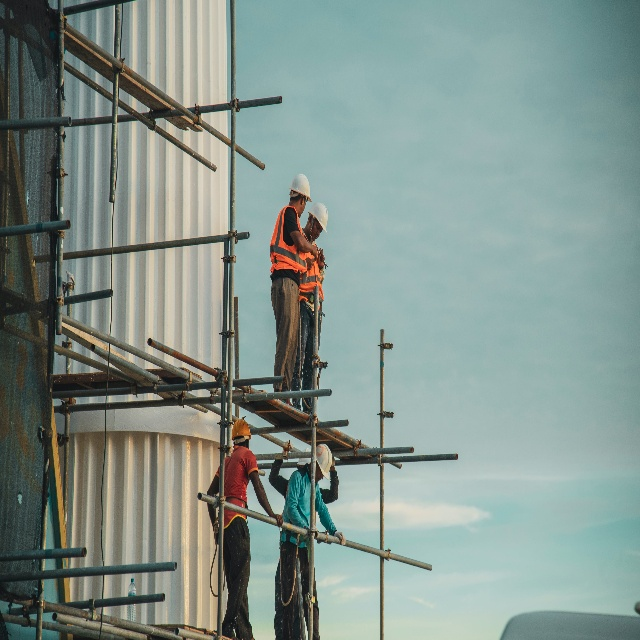Guantes: (334, 529, 346, 545), (281, 440, 293, 452)
Sin_guantes: (317, 247, 325, 267), (274, 513, 283, 527), (310, 244, 318, 257)
